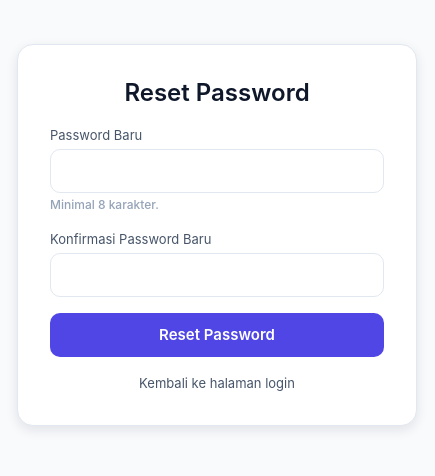
Test: ResetPasswordPage › shows the backend error message when the token is invalid
In the password field labelled "Password Baru": (217, 171) top-left (50, 149), bottom-right (384, 193), type "NewStrongPass!1"
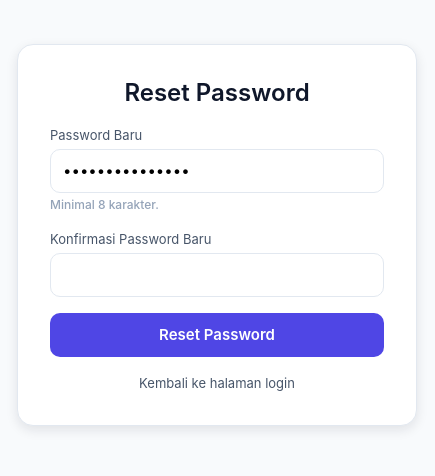
In the password field labelled "Konfirmasi Password Baru": (217, 275) top-left (50, 253), bottom-right (384, 297), type "NewStrongPass!1"
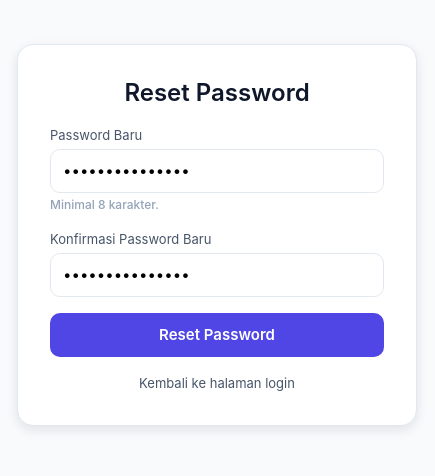
Click the button "Reset Password": click(217, 335) top-left (50, 313), bottom-right (384, 357)
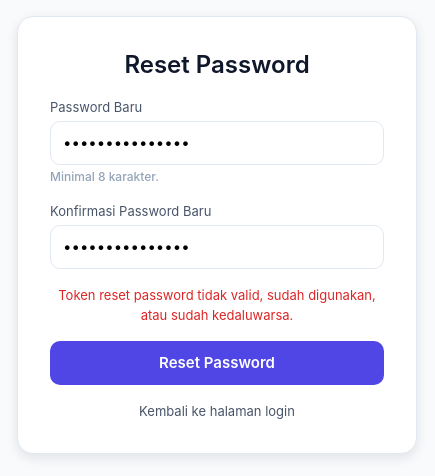
Expected: the message reads "Token reset password tidak valid, sudah digunakan, atau sudah kedaluwarsa.", top-left (58, 287), bottom-right (376, 323)
